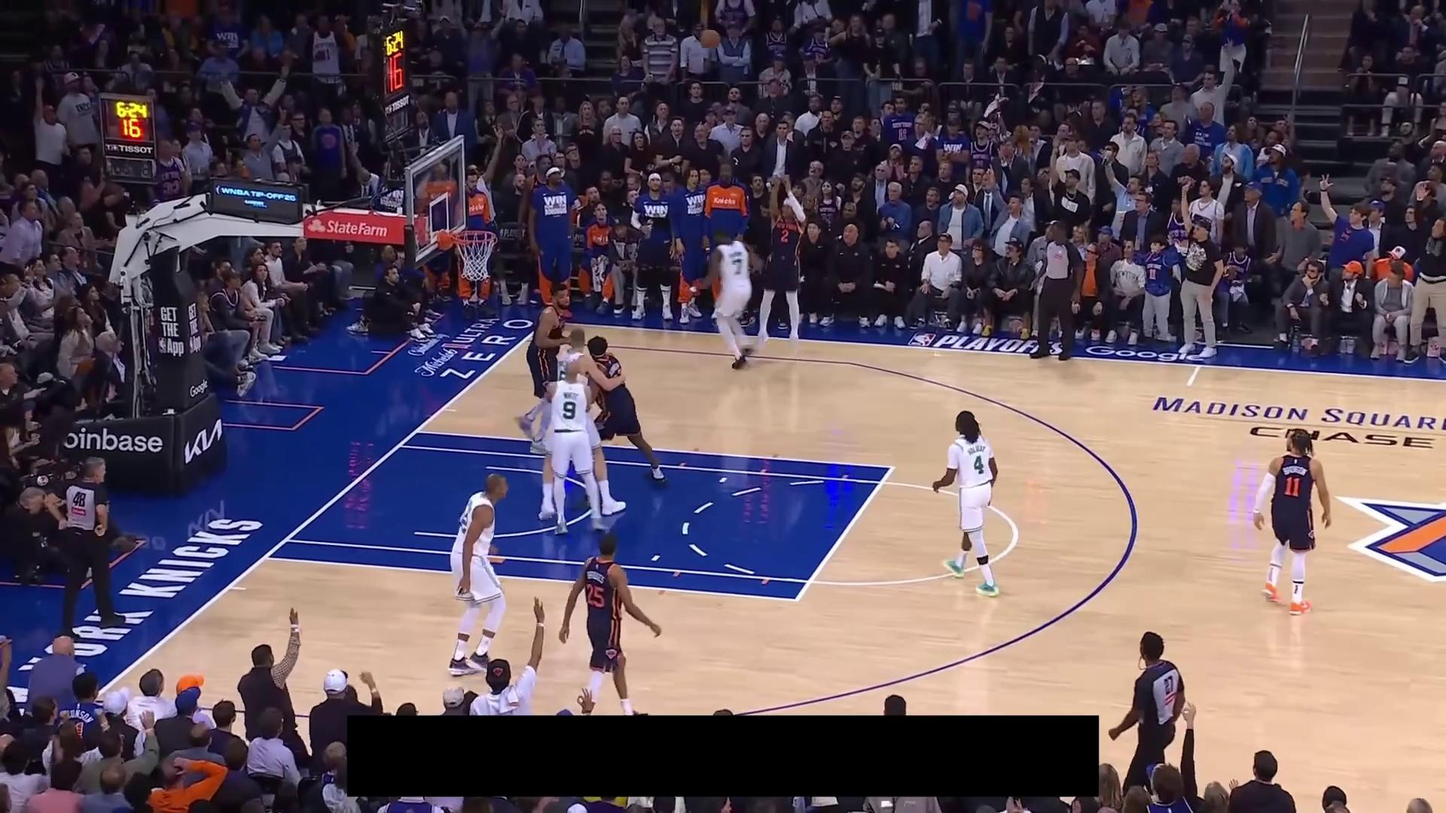ball: (699, 29, 721, 50)
number: (586, 583, 605, 608), (1283, 476, 1301, 498), (562, 400, 577, 420), (973, 454, 985, 475), (732, 258, 743, 276), (781, 228, 789, 243)
player: (558, 531, 664, 715), (537, 328, 627, 520), (1252, 426, 1333, 617), (930, 410, 1003, 598), (445, 470, 510, 677), (585, 335, 669, 488), (545, 359, 610, 536), (514, 282, 574, 456), (706, 226, 759, 370)
player-jump-shot: (756, 173, 807, 350)
referee: (1107, 631, 1197, 806), (47, 455, 127, 641), (1028, 220, 1088, 362)
rim: (453, 228, 498, 245)
